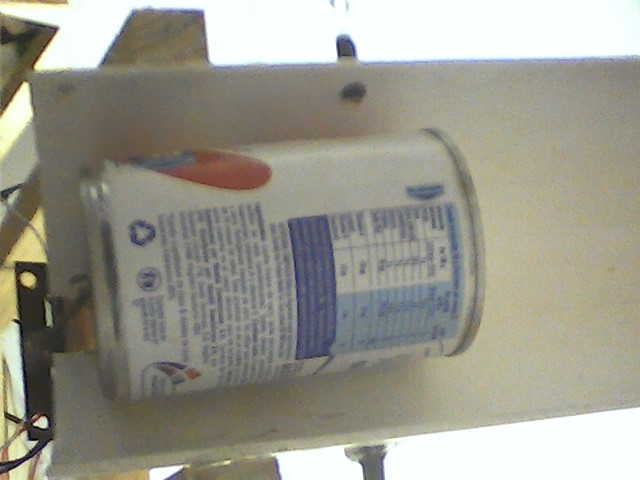lata: (71, 121, 494, 407)
